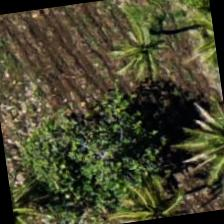Kelapa_Sawit: (82, 0, 185, 97)
